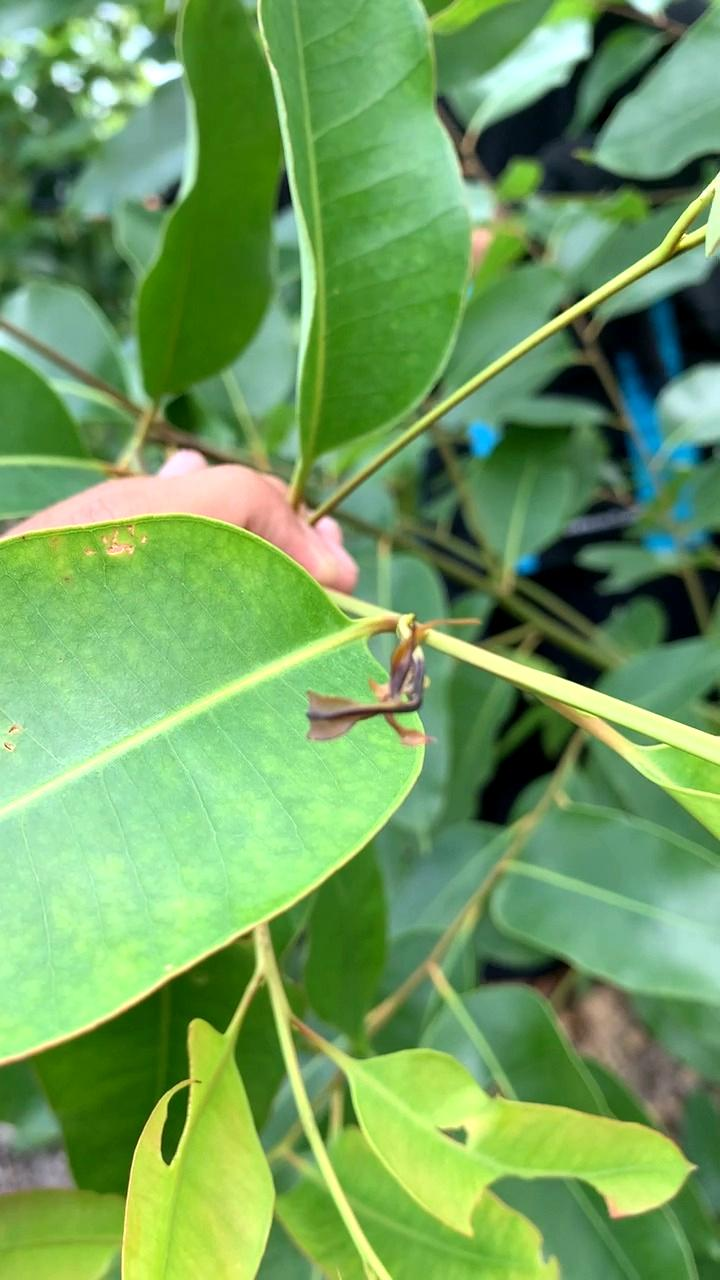Helopeltis-Withered Sprout: (305, 618, 479, 729)
